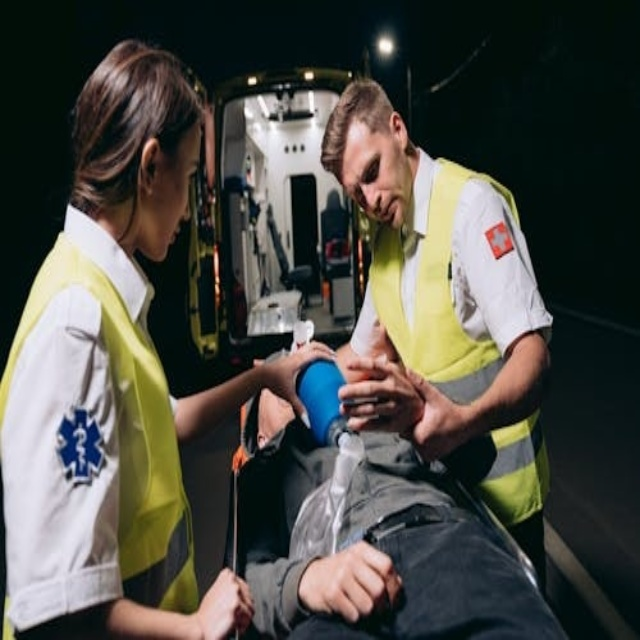Sin_gafas: (164, 136, 205, 198), (346, 144, 383, 209)
Sin_guantes: (301, 536, 404, 630), (338, 353, 429, 444), (272, 344, 348, 433), (198, 566, 254, 640)
Sin_mascara: (147, 217, 191, 263), (375, 183, 404, 225)
